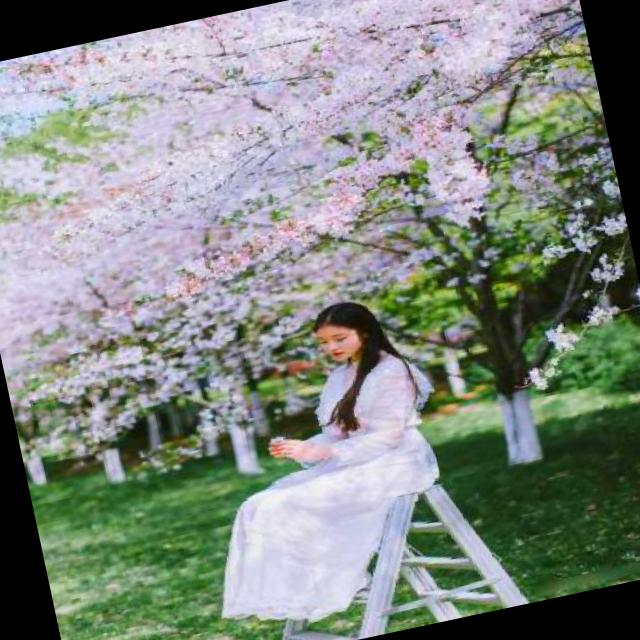Person: (121, 271, 504, 640)
